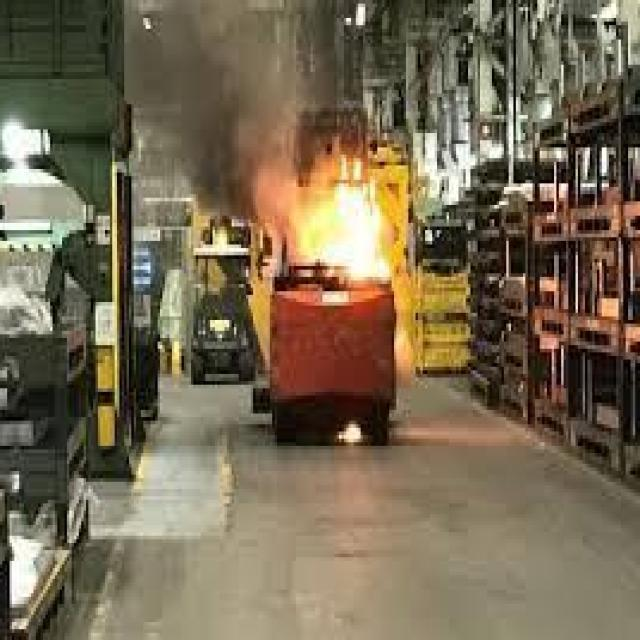smoke: (256, 144, 408, 288)
